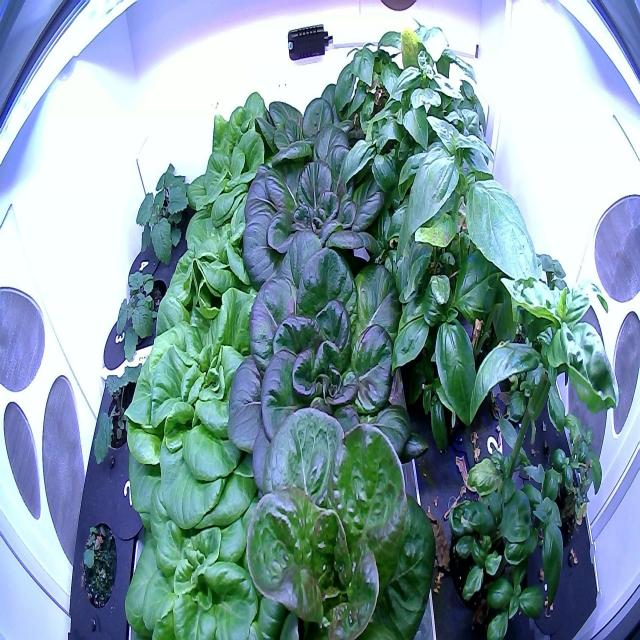Ready: (224, 229, 436, 500), (237, 400, 444, 640), (121, 288, 291, 532), (237, 112, 408, 316), (121, 450, 295, 640), (179, 76, 291, 243), (247, 59, 378, 198), (158, 182, 284, 322)
